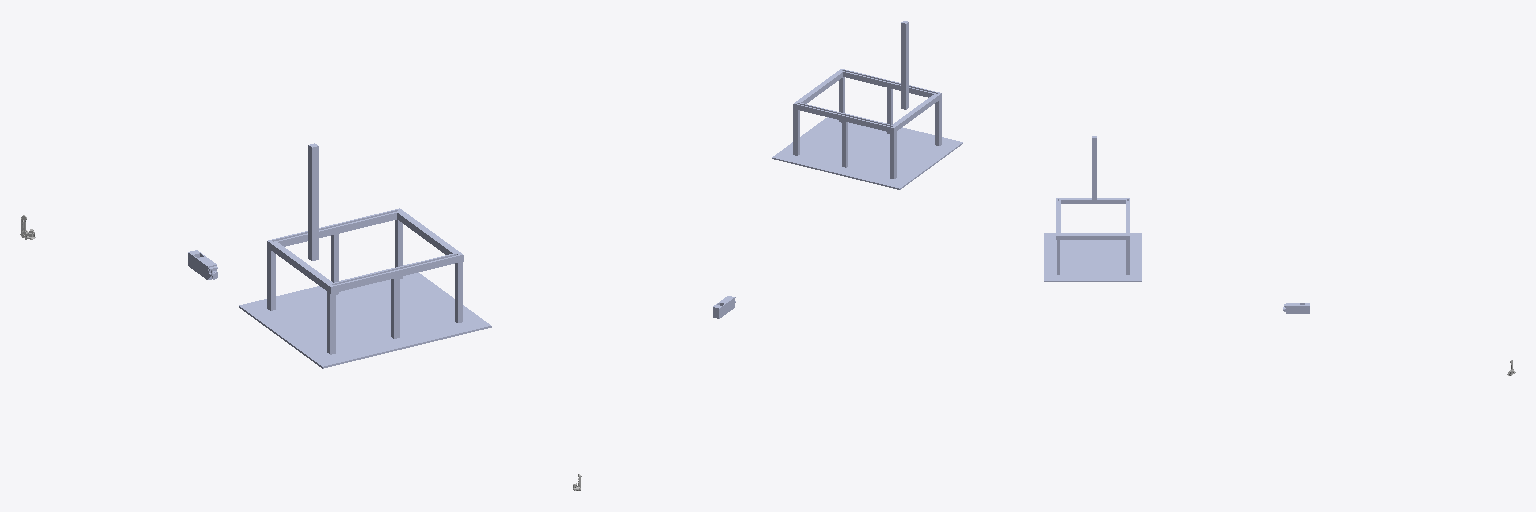
URDF robot description (test2):
<?xml version="1.0" encoding="utf-8"?>
<!-- This URDF was automatically created by SolidWorks to URDF Exporter! Originally created by [author] ([email redacted]) 
     Commit Version: 1.6.0-4-g7f85cfe  Build Version: 1.6.7995.38578
     For more information, please see http://wiki.ros.org/sw_urdf_exporter -->
<robot
  name="test2">
  <link
    name="gantry_x">
    <inertial>
      <origin
        xyz="-0.00035476 1.1281 0.0030492"
        rpy="0 0 0" />
      <mass
        value="12293" />
      <inertia
        ixx="64316"
        ixy="2.0951E-13"
        ixz="-1.1712E-11"
        iyy="107060"
        iyz="-0.050219"
        izz="45881" />
    </inertial>
    <visual>
      <origin
        xyz="0 0 0"
        rpy="0 0 0" />
      <geometry>
        <mesh
          filename="package://test2/meshes/gantry_x.STL" />
      </geometry>
      <material
        name="">
        <color
          rgba="0.79216 0.81961 0.93333 1" />
      </material>
    </visual>
    <collision>
      <origin
        xyz="0 0 0"
        rpy="0 0 0" />
      <geometry>
        <mesh
          filename="package://test2/meshes/gantry_x.STL" />
      </geometry>
    </collision>
  </link>
  <link
    name="gantry_y">
    <inertial>
      <origin
        xyz="0.184 0.17153 3.0187"
        rpy="0 0 0" />
      <mass
        value="740.03" />
      <inertia
        ixx="2278.6"
        ixy="8.2624E-12"
        ixz="1.0716E-13"
        iyy="2279.9"
        iyz="0.002039"
        izz="17.062" />
    </inertial>
    <visual>
      <origin
        xyz="0 0 0"
        rpy="0 0 0" />
      <geometry>
        <mesh
          filename="package://test2/meshes/gantry_y.STL" />
      </geometry>
      <material
        name="">
        <color
          rgba="0.79216 0.81961 0.93333 1" />
      </material>
    </visual>
    <collision>
      <origin
        xyz="0 0 0"
        rpy="0 0 0" />
      <geometry>
        <mesh
          filename="package://test2/meshes/gantry_y.STL" />
      </geometry>
    </collision>
  </link>
  <joint
    name="joint_x_y"
    type="prismatic">
    <origin
      xyz="-2.9895 0.28588 3.7013"
      rpy="1.5708 0 1.5708" />
    <parent
      link="gantry_x" />
    <child
      link="gantry_y" />
    <axis
      xyz="1 0 0" />
    <limit
      lower="0"
      upper="0"
      effort="0"
      velocity="0" />
  </joint>
  <link
    name="gantry_base">
    <inertial>
      <origin
        xyz="0.36884 7.271 17.038"
        rpy="0 0 0" />
      <mass
        value="645.33" />
      <inertia
        ixx="213.99"
        ixy="0.12239"
        ixz="-0.00078074"
        iyy="42.439"
        iyz="-0.0004033"
        izz="227.81" />
    </inertial>
    <visual>
      <origin
        xyz="0 0 0"
        rpy="0 0 0" />
      <geometry>
        <mesh
          filename="package://test2/meshes/gantry_base.STL" />
      </geometry>
      <material
        name="">
        <color
          rgba="0.79216 0.81961 0.93333 1" />
      </material>
    </visual>
    <collision>
      <origin
        xyz="0 0 0"
        rpy="0 0 0" />
      <geometry>
        <mesh
          filename="package://test2/meshes/gantry_base.STL" />
      </geometry>
    </collision>
  </link>
  <joint
    name="joint_y_base"
    type="prismatic">
    <origin
      xyz="17.238 -7.5966 3.9575"
      rpy="3.1416 -1.5708 0" />
    <parent
      link="gantry_y" />
    <child
      link="gantry_base" />
    <axis
      xyz="1 0 0" />
    <limit
      lower="0"
      upper="0"
      effort="0"
      velocity="0" />
  </joint>
  <link
    name="link_1">
    <inertial>
      <origin
        xyz="0.15386 -0.01084 -0.23834"
        rpy="0 0 0" />
      <mass
        value="39.488" />
      <inertia
        ixx="0.82415"
        ixy="-0.13884"
        ixz="-0.16266"
        iyy="1.5307"
        iyz="0.086028"
        izz="1.6236" />
    </inertial>
    <visual>
      <origin
        xyz="0 0 0"
        rpy="0 0 0" />
      <geometry>
        <mesh
          filename="package://test2/meshes/link_1.STL" />
      </geometry>
      <material
        name="">
        <color
          rgba="0.75294 0.75294 0.75294 1" />
      </material>
    </visual>
    <collision>
      <origin
        xyz="0 0 0"
        rpy="0 0 0" />
      <geometry>
        <mesh
          filename="package://test2/meshes/link_1.STL" />
      </geometry>
    </collision>
  </link>
  <joint
    name="joint_1"
    type="continuous">
    <origin
      xyz="0.44563 5.7729 17.038"
      rpy="-1.5708 -0.81903 3.1416" />
    <parent
      link="gantry_base" />
    <child
      link="link_1" />
    <axis
      xyz="0 0 1" />
  </joint>
  <link
    name="link_2">
    <inertial>
      <origin
        xyz="0.020078 0.14605 0.39436"
        rpy="0 0 0" />
      <mass
        value="26.224" />
      <inertia
        ixx="2.763"
        ixy="-0.0029338"
        ixz="-0.019263"
        iyy="2.8501"
        iyz="-0.03169"
        izz="0.15604" />
    </inertial>
    <visual>
      <origin
        xyz="0 0 0"
        rpy="0 0 0" />
      <geometry>
        <mesh
          filename="package://test2/meshes/link_2.STL" />
      </geometry>
      <material
        name="">
        <color
          rgba="0.75294 0.75294 0.75294 1" />
      </material>
    </visual>
    <collision>
      <origin
        xyz="0 0 0"
        rpy="0 0 0" />
      <geometry>
        <mesh
          filename="package://test2/meshes/link_2.STL" />
      </geometry>
    </collision>
  </link>
  <joint
    name="joint_2"
    type="continuous">
    <origin
      xyz="0.32 0 -0.1973"
      rpy="0 -0.01315 0" />
    <parent
      link="link_1" />
    <child
      link="link_2" />
    <axis
      xyz="0 1 0" />
  </joint>
</robot>

--- What the picture shows (computed from the rendered views, not written in the file) ---
3 views of the same robot in one strip: view 1: azimuth 30°, elevation 25°; view 2: azimuth 150°, elevation 25°; view 3: azimuth 270°, elevation 25° (orthographic).
Robot: test2 — 5 links, 4 joints (2 continuous, 2 prismatic); root link gantry_x; default pose: all joints at 0.
Visible links, largest first — view 1: gantry_x, gantry_y, gantry_base; view 2: gantry_x, gantry_y; view 3: gantry_x.
Link boxes in pixels (<box>): gantry_x: <box>239,208,491,368</box>; gantry_y: <box>308,143,318,260</box>; gantry_base: <box>188,250,217,279</box>; gantry_x: <box>772,69,962,189</box>; gantry_y: <box>901,21,908,109</box>; gantry_x: <box>1044,198,1141,281</box>.
Bounding box of the posed robot: 9.38 × 39.03 × 19.84 m (x, y, z).
5 mesh visuals loaded from 5 distinct referenced files (5 binary STL).